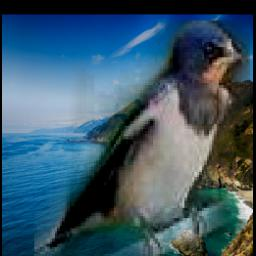Swallow: (34, 20, 250, 256)
